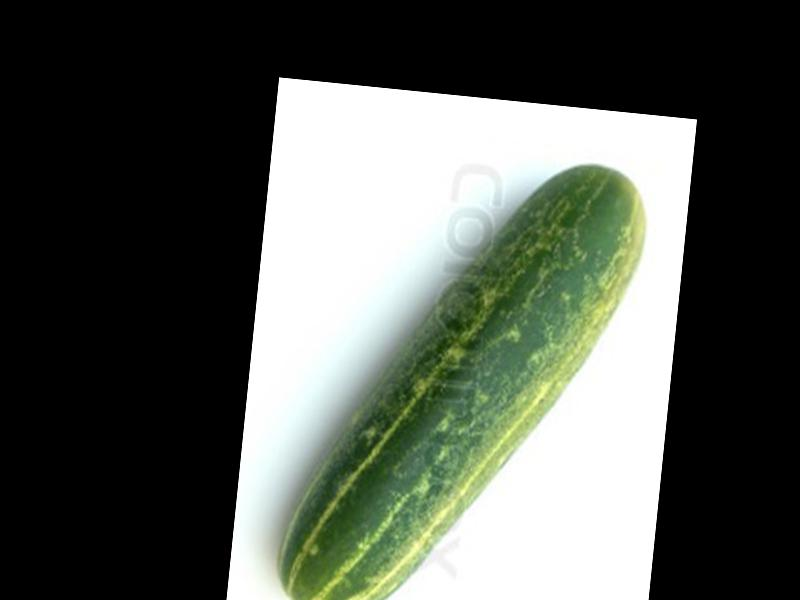Cucumber: (274, 139, 654, 600)
